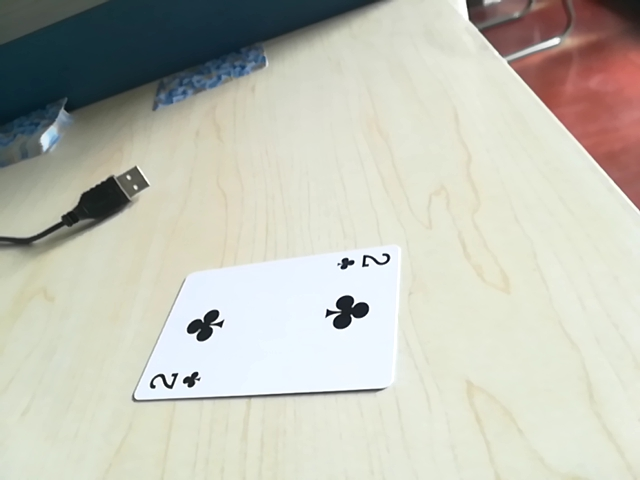mh 2: (138, 367, 206, 399), (335, 247, 392, 274)
